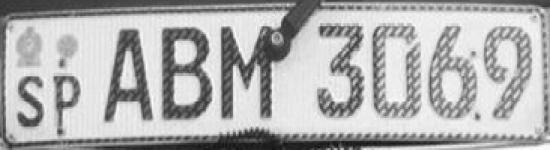0: (369, 21, 425, 123)
3: (313, 19, 367, 125)
6: (429, 22, 479, 125)
9: (479, 19, 533, 127)
A: (99, 23, 157, 127)
B: (160, 19, 218, 125)
M: (218, 20, 277, 124)
P: (50, 71, 88, 136)
S: (11, 71, 46, 133)
